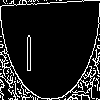I: (25, 24, 33, 72)
